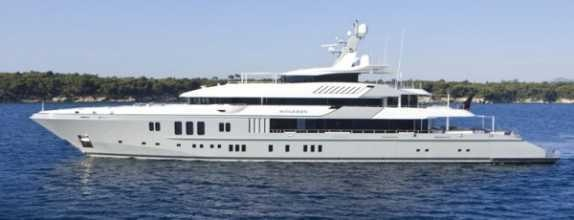yacht: (30, 27, 544, 160)
